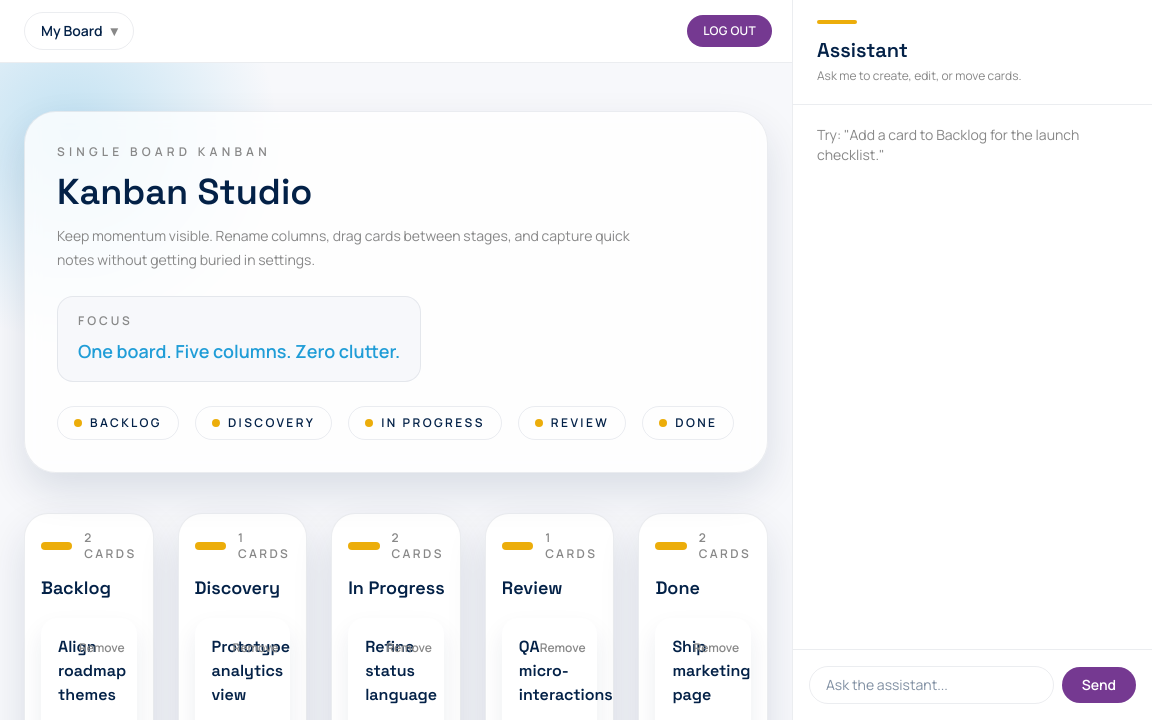
Test: Workspace › creates a project, switches to it, and shows its empty board
Click the button with aria-label "switch project".
click(79, 31)  # box [24,12,134,50]
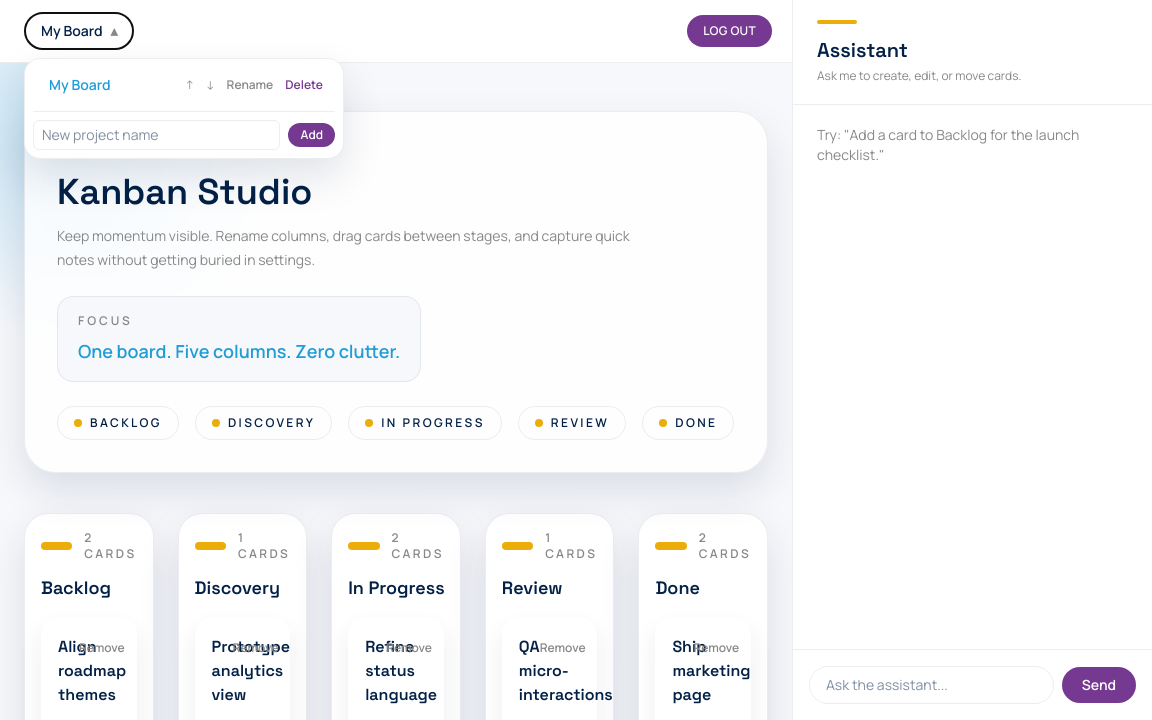
Type "Roadmap" into the field with placeholder "New project name".
click(157, 135); type("Roadmap")  # box [33,120,280,150]
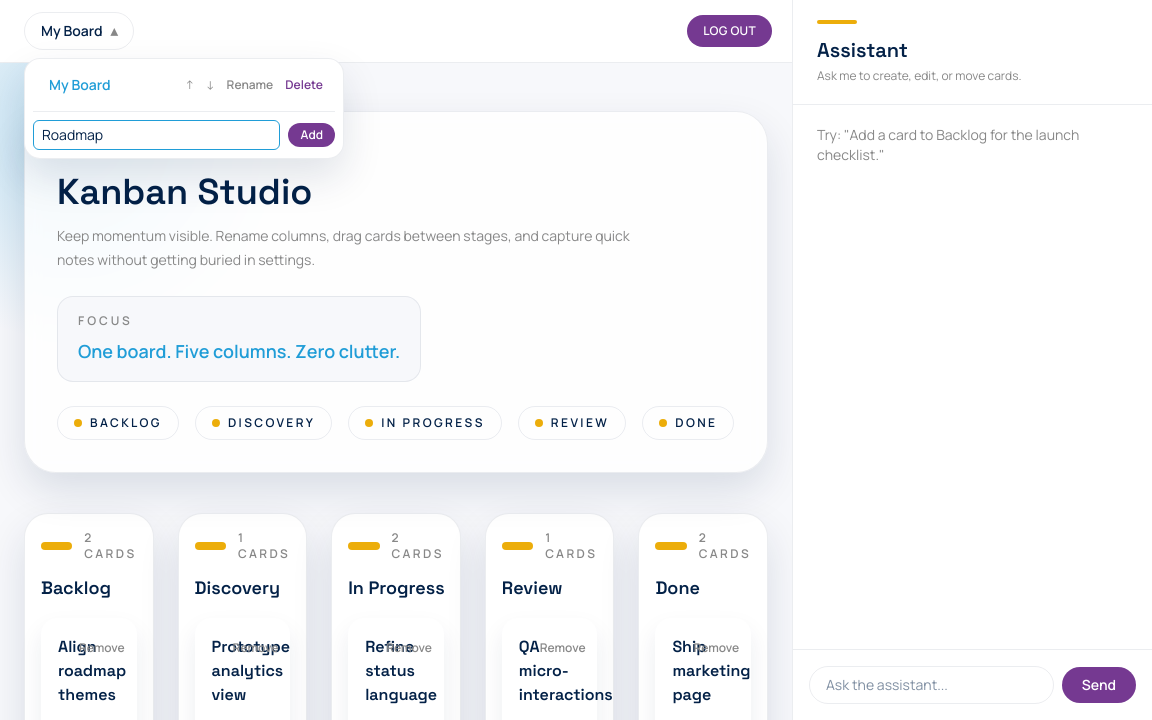
Click the button "Add".
click(312, 135)  # box [288,123,335,147]
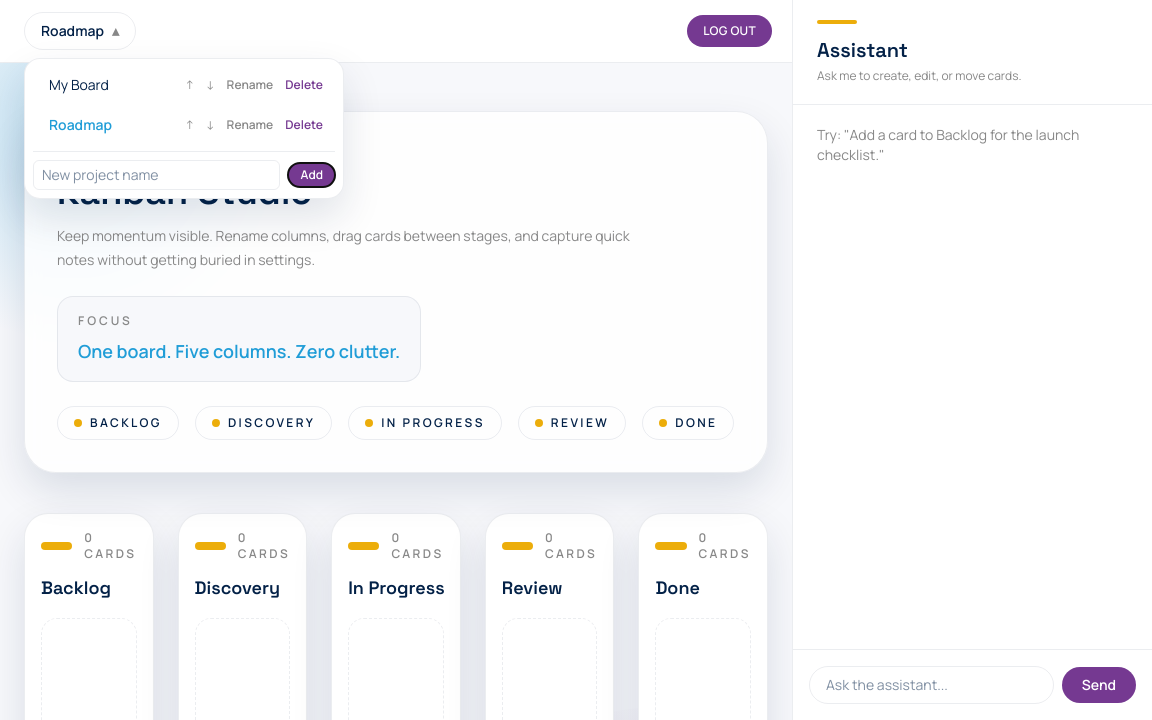
Expected: the button with aria-label "switch project" shows "Roadmap", [24,12,136,50]
